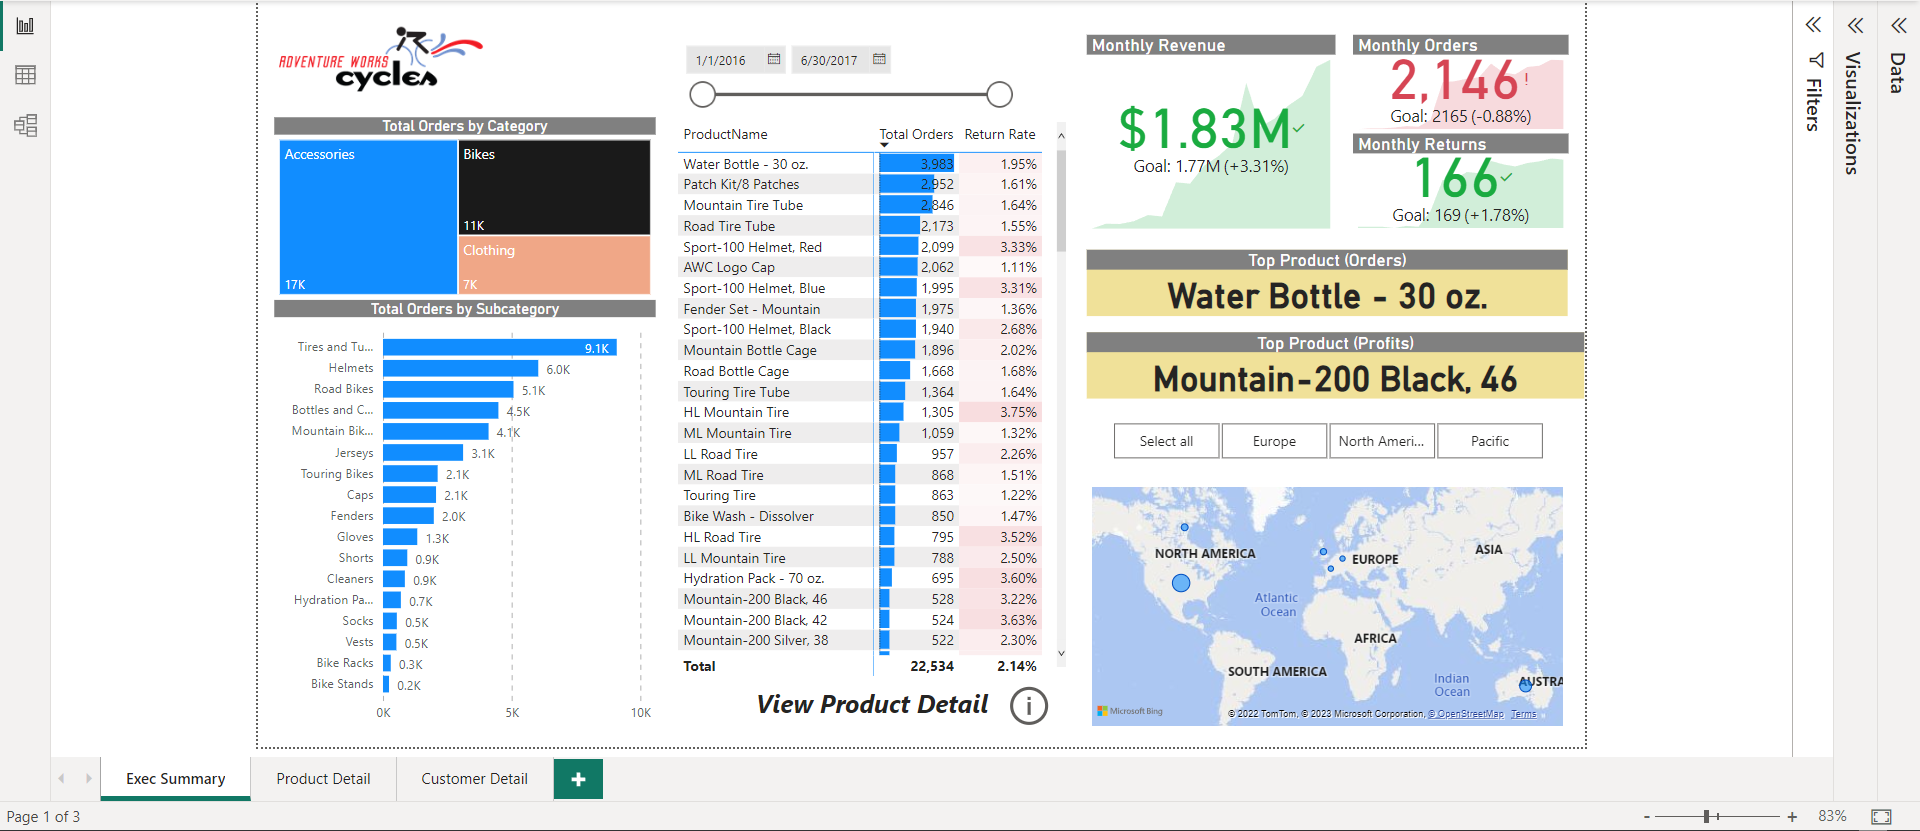

The page's visual inventory and layout, read from the dashboard file:
{"tool":"powerbi","page":{"name":"Exec Summary","canvas":[1280,720],"ordinal":0},"visuals":[{"type":"image","box":[16,0,208,112],"z":0},{"type":"barChart","title":"Total Orders by Subcategory","fields":{"Y":["AW_Sales.Total Orders"],"Category":["AW_Product_Subcategory_Lookup.SubcategoryName"]},"box":[16,288,368,416],"z":1000},{"type":"treemap","title":"Total Orders by Category","fields":{"Group":["AW_Product_Category_Lookup.CategoryName","AW_Product_Subcategory_Lookup.SubcategoryName"],"Values":["AW_Sales.Total Orders"]},"box":[16,112,368,176],"z":2000},{"type":"pivotTable","fields":{"Values":["AW_Sales.Total Orders","AW_Returns.Return Rate"],"Rows":["AW_Product_Category_Lookup.CategoryName","AW_Product_Subcategory_Lookup.SubcategoryName","AW_Product_Lookup.ProductName"]},"box":[400,112,384,544],"z":3000},{"type":"slicer","fields":{"Values":["AW_Calendar_Lookup.Date"]},"box":[400,32,336,80],"z":4000},{"type":"kpi","title":"Monthly Revenue","fields":{"Indicator":["AW_Sales.Total Revenue"],"TrendLine":["AW_Calendar_Lookup.Start of Month"],"Goal":["AW_Sales.Prev Month Revenue"]},"box":[800,32,240,192],"z":5000},{"type":"kpi","title":"Monthly Orders","fields":{"TrendLine":["AW_Calendar_Lookup.Start of Month"],"Indicator":["AW_Sales.Total Orders"],"Goal":["AW_Sales.Prev Month Orders"]},"box":[1056,32,208,96],"z":6000},{"type":"kpi","title":"Monthly Returns","fields":{"TrendLine":["AW_Calendar_Lookup.Start of Month"],"Goal":["AW_Returns.Prev Month Returns"],"Indicator":["AW_Returns.Total Returns"]},"box":[1056,128,208,96],"z":7000},{"type":"card","title":"Top Product (Profits)","fields":{"Values":["Min(AW_Product_Lookup.ProductName)"]},"box":[800,320,480,64],"z":8000},{"type":"card","title":"Top Product (Orders)","fields":{"Values":["Min(AW_Product_Lookup.ProductName)"]},"box":[800,240,464,64],"z":9000},{"type":"map","fields":{"Category":["AW_Territories_Lookup.Country"],"Size":["AW_Sales.Total Orders"]},"box":[800,464,464,240],"z":10000},{"type":"slicer","fields":{"Values":["AW_Territories_Lookup.Continent"]},"box":[800,400,464,48],"z":11000},{"type":"textbox","box":[464,656,256,48],"z":12000},{"type":"actionButton","box":[720,656,48,48],"z":13000}]}

Visuals, with their boxes on the page's 1280x720 design canvas (x1, y1, x2, y2). These are canvas units, not pixel positions in the 1920x831 screenshot, which may show the page scaled, cropped or inside an application window:
image: <bbox>16, 0, 224, 112</bbox>
"Total Orders by Subcategory" barChart: <bbox>16, 288, 384, 704</bbox>
"Total Orders by Category" treemap: <bbox>16, 112, 384, 288</bbox>
pivotTable - AW_Sales.Total Orders x AW_Returns.Return Rate: <bbox>400, 112, 784, 656</bbox>
slicer - AW_Calendar_Lookup.Date: <bbox>400, 32, 736, 112</bbox>
"Monthly Revenue" kpi: <bbox>800, 32, 1040, 224</bbox>
"Monthly Orders" kpi: <bbox>1056, 32, 1264, 128</bbox>
"Monthly Returns" kpi: <bbox>1056, 128, 1264, 224</bbox>
"Top Product (Profits)" card: <bbox>800, 320, 1280, 384</bbox>
"Top Product (Orders)" card: <bbox>800, 240, 1264, 304</bbox>
map - AW_Territories_Lookup.Country x AW_Sales.Total Orders: <bbox>800, 464, 1264, 704</bbox>
slicer - AW_Territories_Lookup.Continent: <bbox>800, 400, 1264, 448</bbox>
textbox: <bbox>464, 656, 720, 704</bbox>
actionButton: <bbox>720, 656, 768, 704</bbox>
